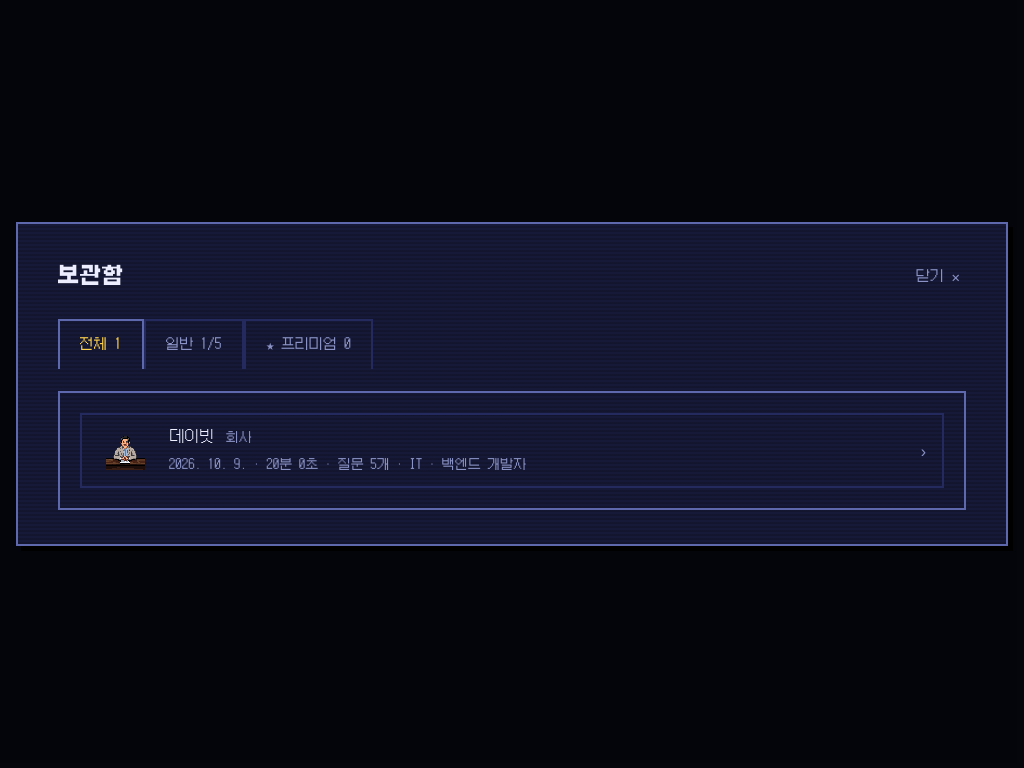
ArchiveModal — 목록 › 프리미엄 탭이 비면 숨기지 않고 권유를 띄운다
Click the button with test id "archive-tab" showing "★ 프리미엄 0" at (309, 344), box [244, 319, 373, 369]
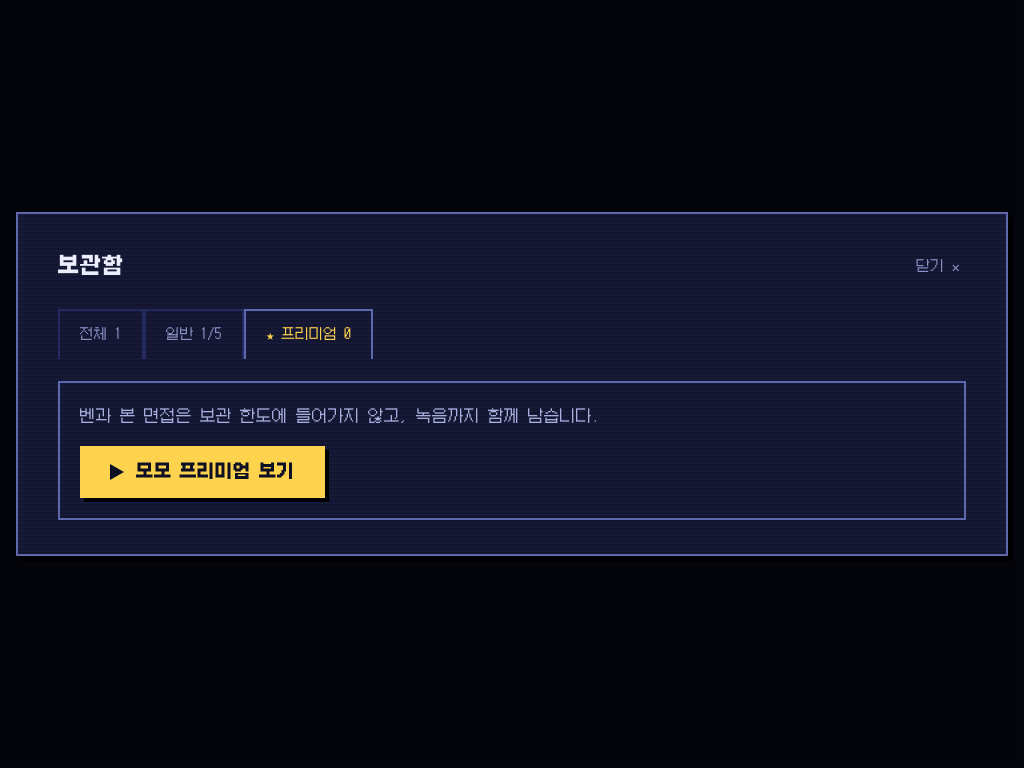
Check: the element with test id "premium-cta" is shown, box [80, 407, 600, 498]
